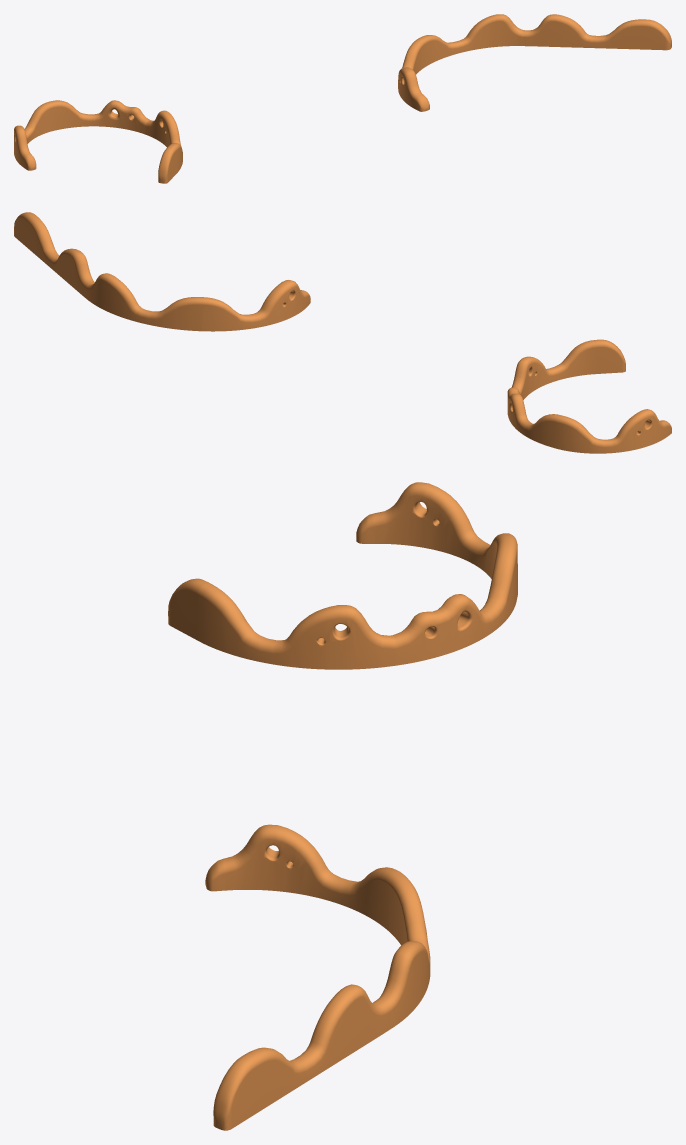
The model's file is c2_walls.fbx.
3 views of the same model, one above another, from view 1: azimuth 30°, elevation 25°; view 2: azimuth 150°, elevation 25°; view 3: azimuth 270°, elevation 25° (orthographic). The views are drawn at different scales.
Visible parts, largest first — view 1: wall_end_015, wall_end_014; view 2: wall_end_015, wall_end_014; view 3: wall_end_014, wall_end_015.
Boxes of the visible parts, x1,y1,x2,y2 form: wall_end_015: [398, 14, 671, 111]; wall_end_014: [14, 100, 182, 183]; wall_end_015: [14, 212, 310, 331]; wall_end_014: [507, 339, 671, 453]; wall_end_014: [168, 482, 517, 669]; wall_end_015: [205, 824, 430, 1130].
Size of the model in its own units: 6839 by 315 by 1697.
